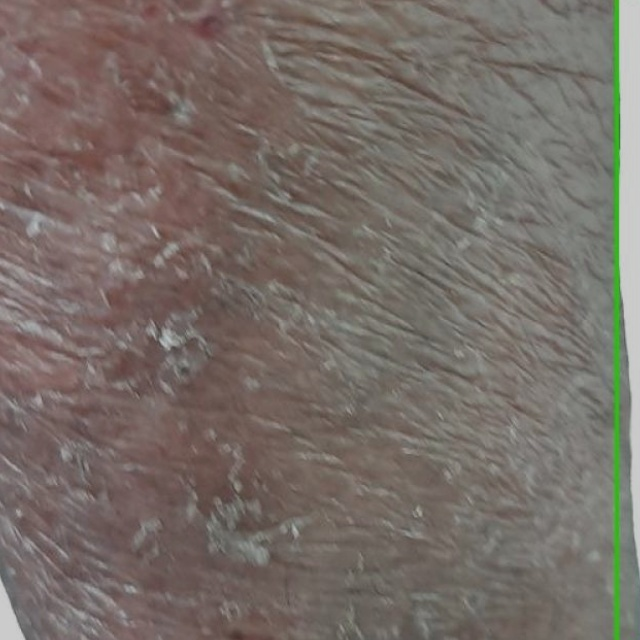Tinea Corporis: (616, 0, 639, 639)
